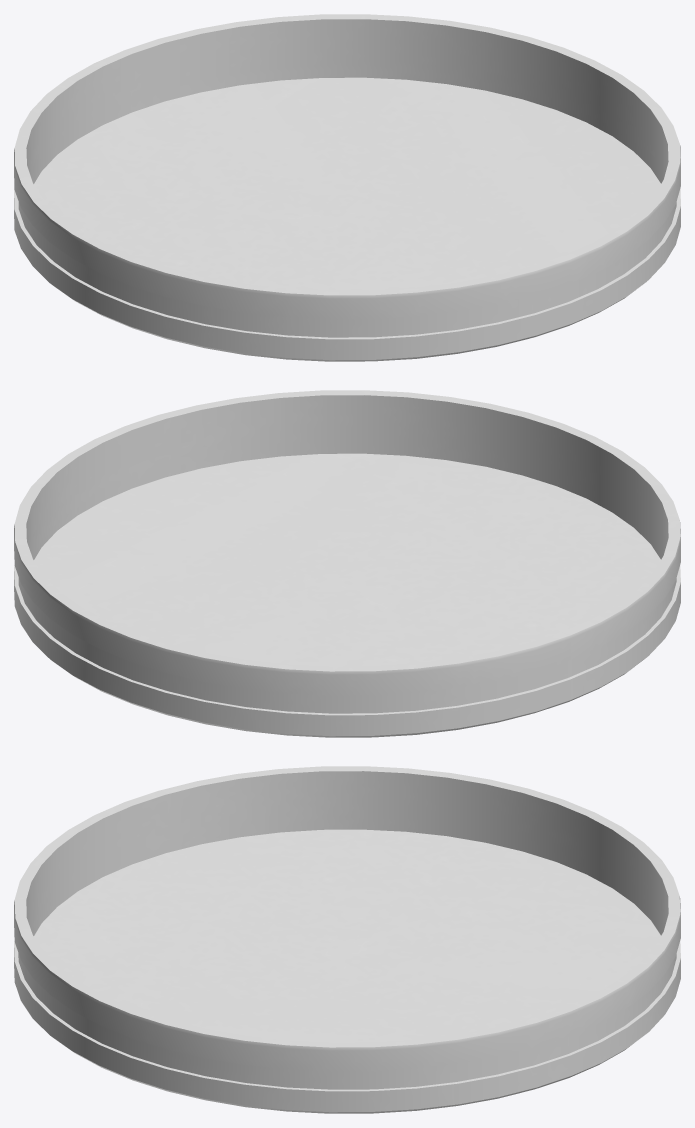
File: shupiantong01_gaizi.fbx
3 views of the same model, one above another, from view 1: azimuth 30°, elevation 25°; view 2: azimuth 150°, elevation 25°; view 3: azimuth 270°, elevation 25° (orthographic).
Parts seen in each view (by area): view 1: shupiantong01_gaizi; view 2: shupiantong01_gaizi; view 3: shupiantong01_gaizi.
Part boxes in pixels (<box>): shupiantong01_gaizi: <box>14,14,680,361</box>; shupiantong01_gaizi: <box>14,390,680,737</box>; shupiantong01_gaizi: <box>14,766,680,1113</box>.
Size of the model in its own units: 12.63 by 1.41 by 12.63.
Materials: 1 (1 with a texture image).
